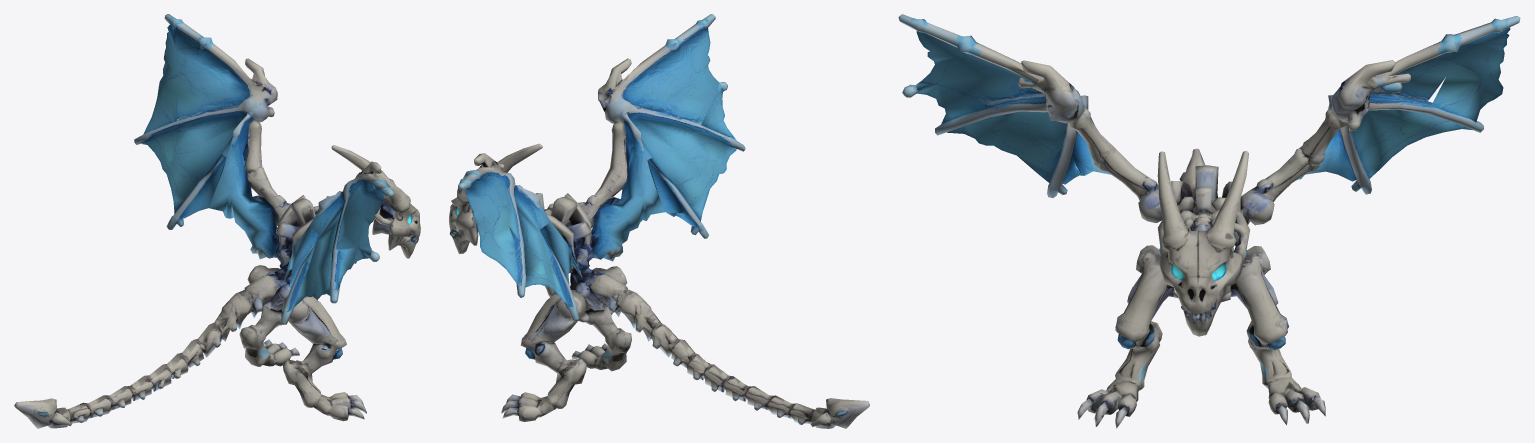
The model's file is model-dafa6635.glb.
The picture shows the model from 3 angles, left to right: view 1: azimuth 30°, elevation 25°; view 2: azimuth 150°, elevation 25°; view 3: azimuth 270°, elevation 25°; orthographic projection. The views are drawn at different scales.
Parts seen in each view (by area): view 1: tripo_node_dafa6635-b5f4-468c-bf2d-2c6284a9e9d7; view 2: tripo_node_dafa6635-b5f4-468c-bf2d-2c6284a9e9d7; view 3: tripo_node_dafa6635-b5f4-468c-bf2d-2c6284a9e9d7.
Part boxes in pixels (bbox=[...]): tripo_node_dafa6635-b5f4-468c-bf2d-2c6284a9e9d7: bbox=[14, 14, 420, 428]; tripo_node_dafa6635-b5f4-468c-bf2d-2c6284a9e9d7: bbox=[449, 14, 869, 428]; tripo_node_dafa6635-b5f4-468c-bf2d-2c6284a9e9d7: bbox=[898, 14, 1520, 428].
Size of the model in its own units: 0.7235 by 0.5 by 0.7321.
1 material, 1 textured.
